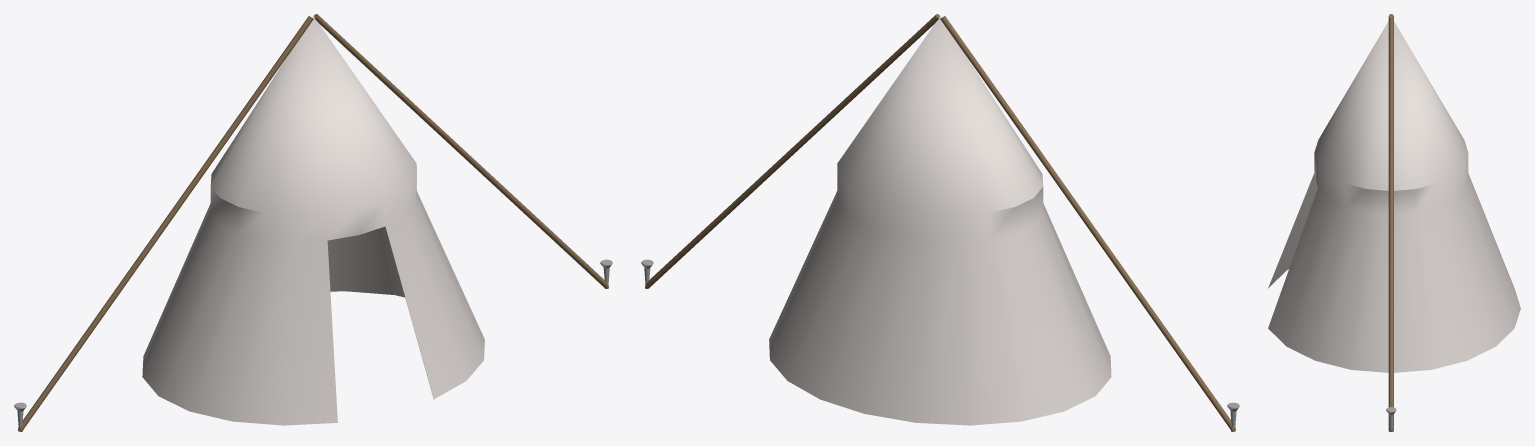
Rendered from Triangle_Tent_White_FBX_EXport.fbx.
3 views of the same model, side by side, from view 1: azimuth 30°, elevation 25°; view 2: azimuth 150°, elevation 25°; view 3: azimuth 270°, elevation 25° (orthographic). The views are drawn at different scales.
Parts seen in each view (by area): view 1: Tent_1_Export:Tent_3; view 2: Tent_1_Export:Tent_3; view 3: Tent_1_Export:Tent_3.
Part boxes in pixels (box(x1,y1,x2,y2)): Tent_1_Export:Tent_3: box(14, 14, 612, 431); Tent_1_Export:Tent_3: box(641, 14, 1239, 431); Tent_1_Export:Tent_3: box(1268, 14, 1520, 431).
Bounding box in the file's own units: 13.41 × 7.39 × 5.77.
